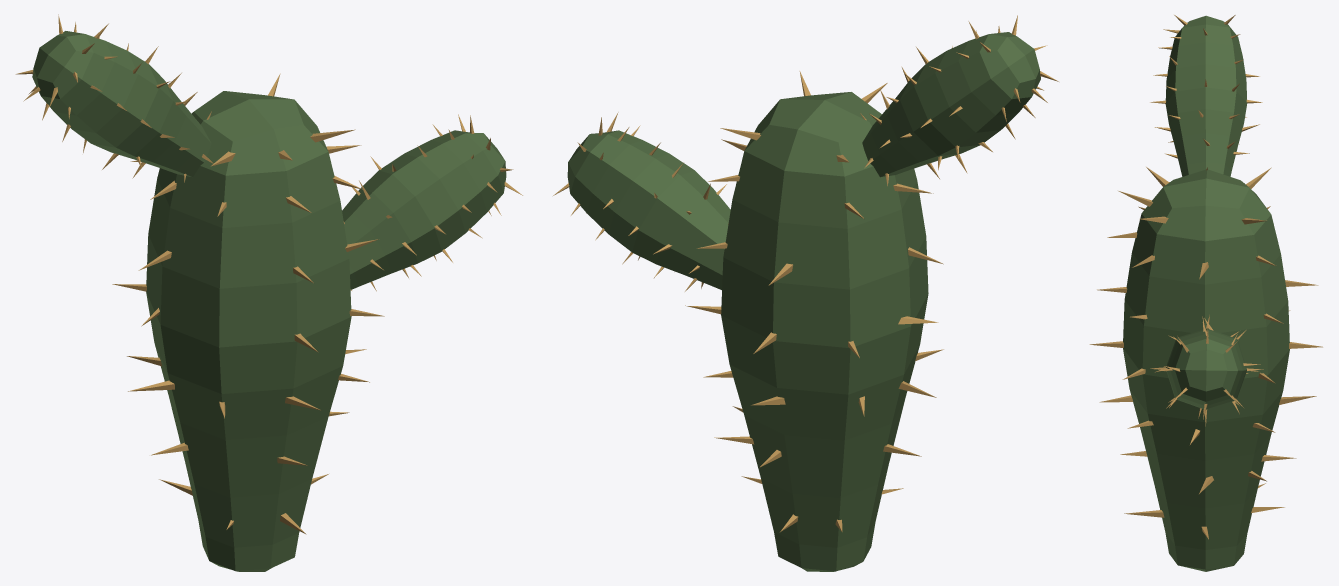
Rendered from Cactus2.glb.
The picture shows the model from 3 angles, left to right: view 1: azimuth 30°, elevation 25°; view 2: azimuth 150°, elevation 25°; view 3: azimuth 270°, elevation 25°; orthographic projection. The views are drawn at different scales.
Visible parts, largest first — view 1: Cactus_Harvested; view 2: Cactus_Harvested; view 3: Cactus_Harvested.
Part boxes in pixels (bbox=[...]): Cactus_Harvested: bbox=[15, 14, 522, 571]; Cactus_Harvested: bbox=[553, 15, 1058, 571]; Cactus_Harvested: bbox=[1089, 15, 1322, 571].
Size of the model in its own units: 1.09 by 1.26 by 0.5629.
